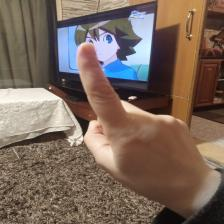one: (71, 39, 204, 195)
